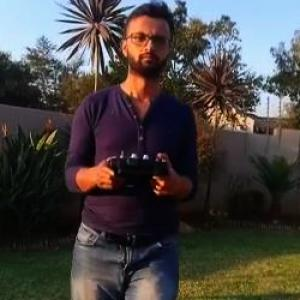follow: (60, 0, 205, 299)
